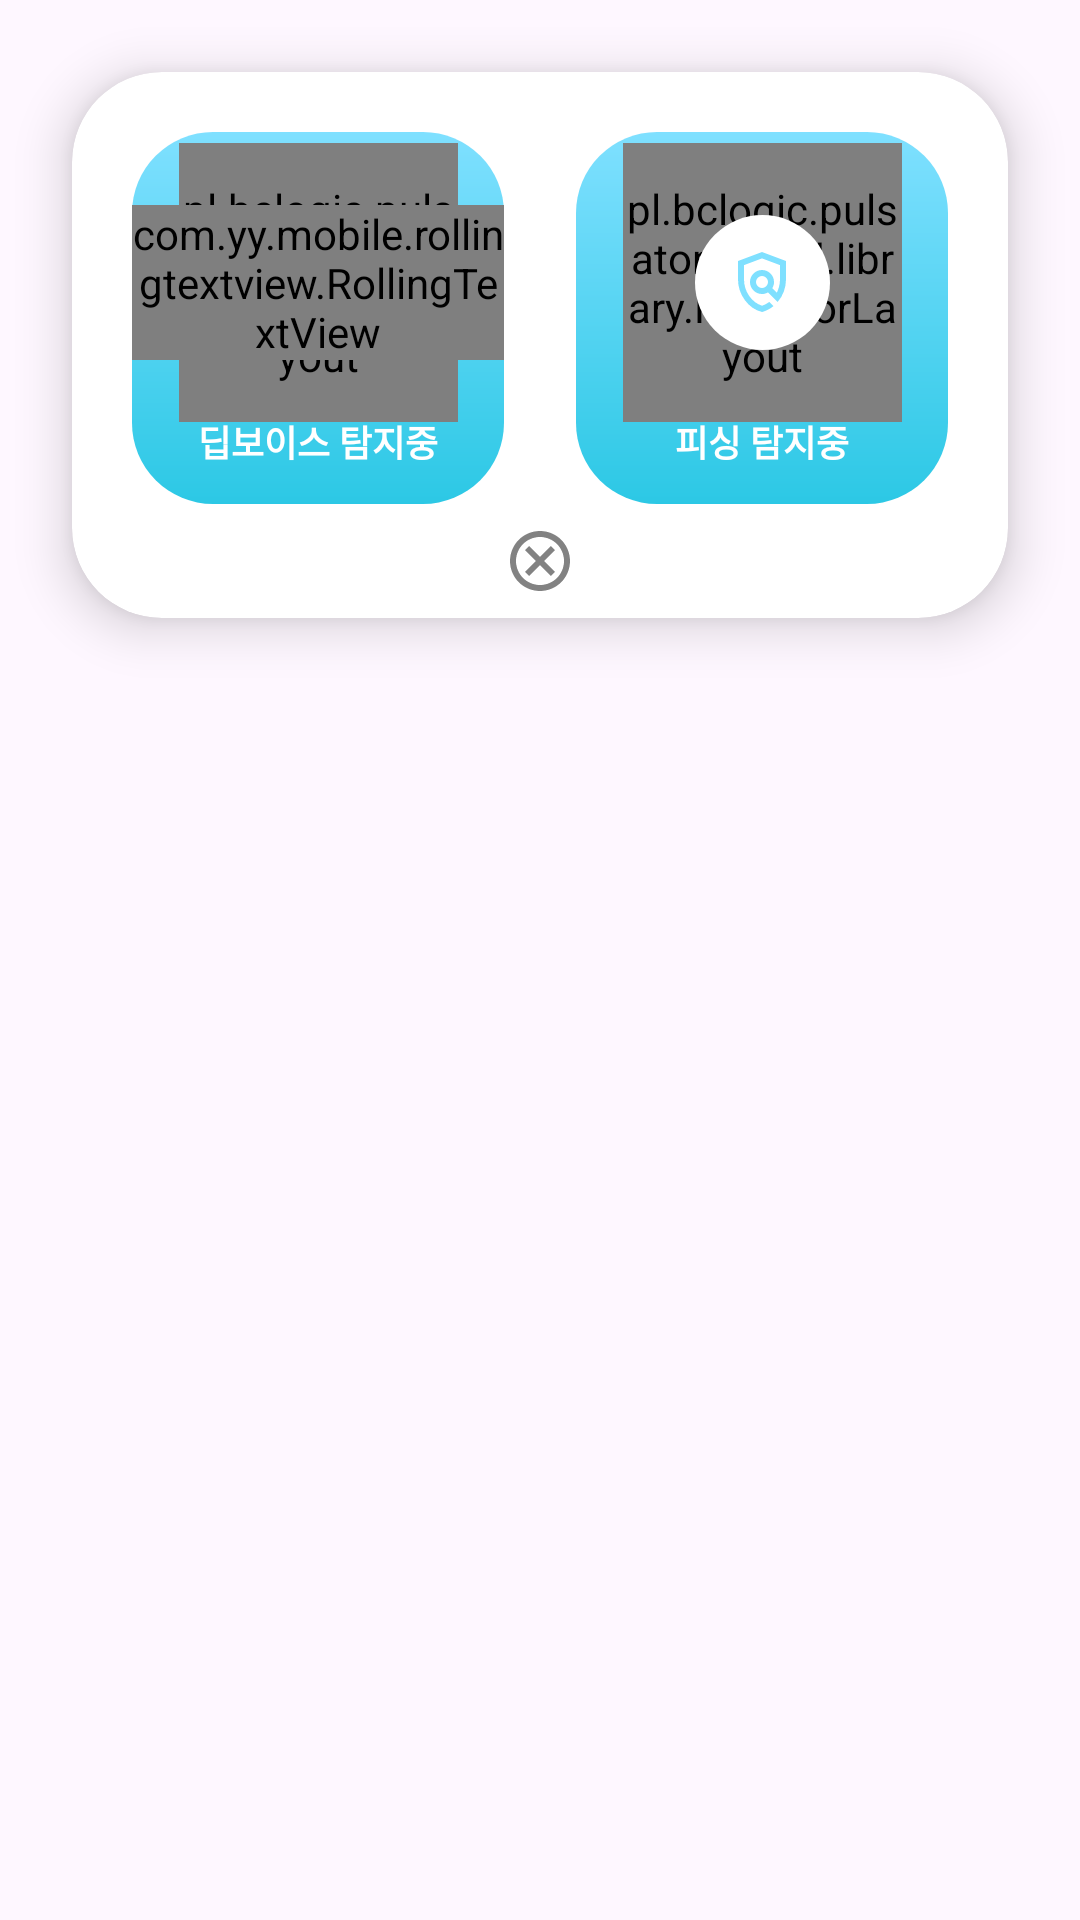

Where to tap for icons on this 1080px×1920px app screen, as point (x, y):
cancel: point (540, 561)
policy 7fe0ff: point (762, 282)
